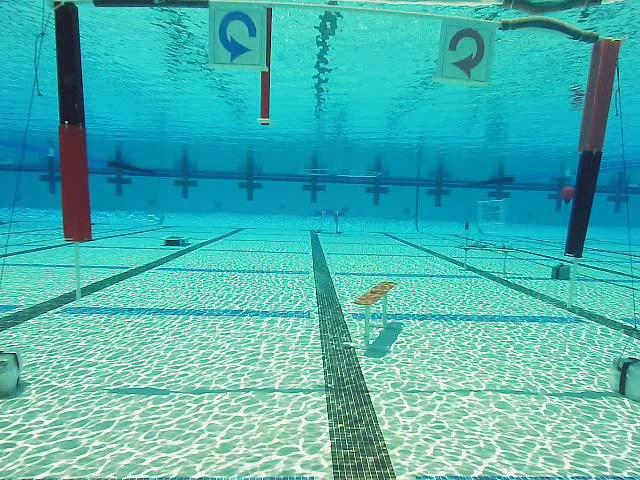dropper: (161, 234, 191, 248)
gate_blue: (211, 8, 267, 65)
gate_leg_l: (51, 2, 93, 248)
gate_leg_r: (564, 35, 620, 259)
gate_red: (441, 26, 491, 83)
table: (311, 209, 347, 237)
torpedo: (477, 199, 506, 226)
